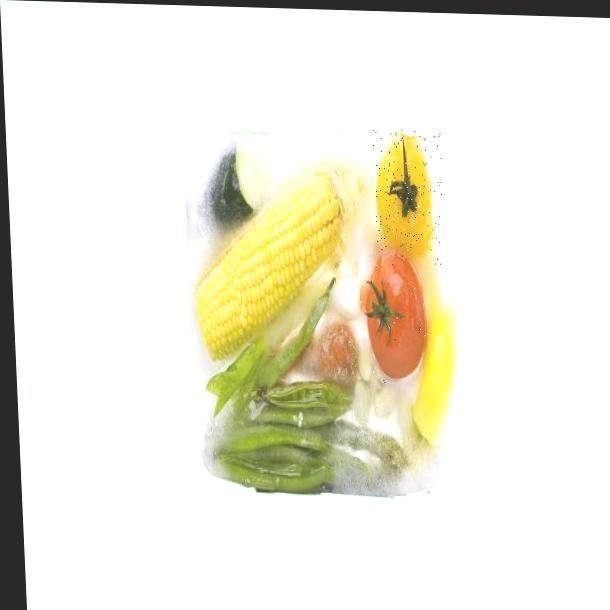Tomato: (360, 247, 436, 386), (372, 125, 446, 266)
